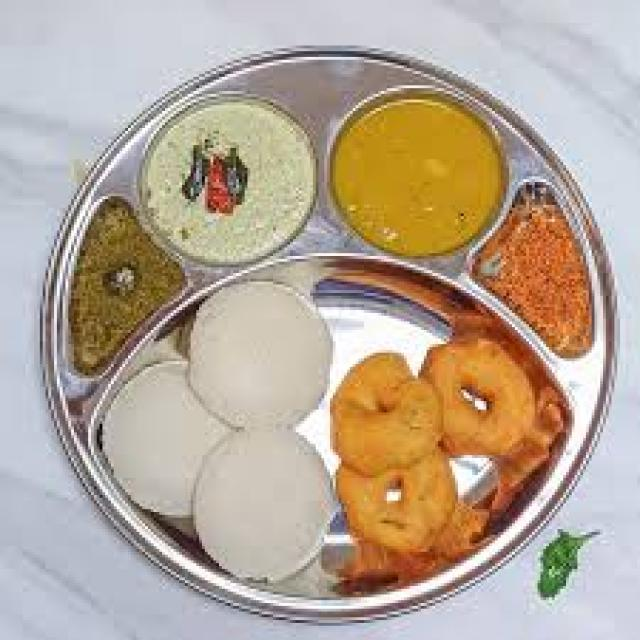IDLI: (186, 425, 346, 588), (187, 284, 339, 438), (86, 371, 234, 517)
MEDU VADA: (322, 457, 471, 580), (332, 343, 444, 474), (429, 335, 533, 451)
